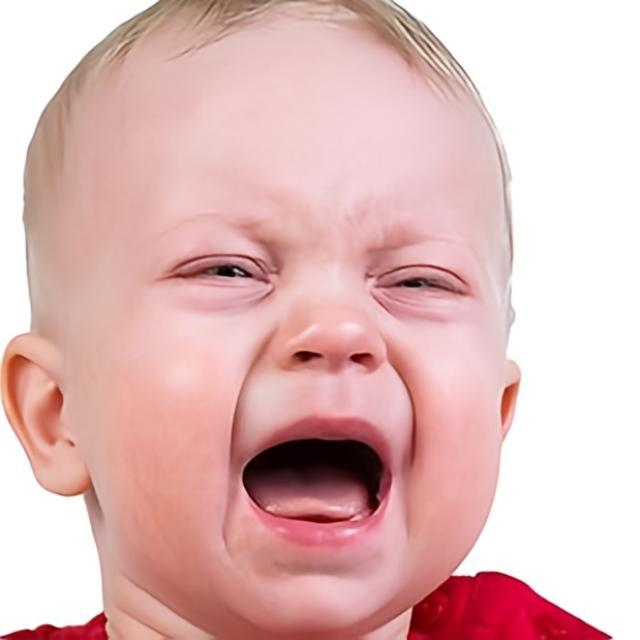sad: (89, 52, 517, 636)
